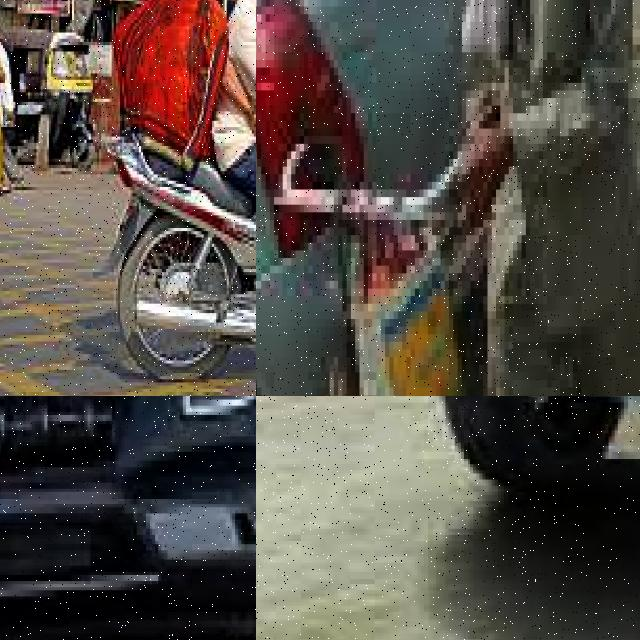bike: (80, 64, 256, 395)
car: (313, 396, 640, 615), (0, 396, 256, 640)
